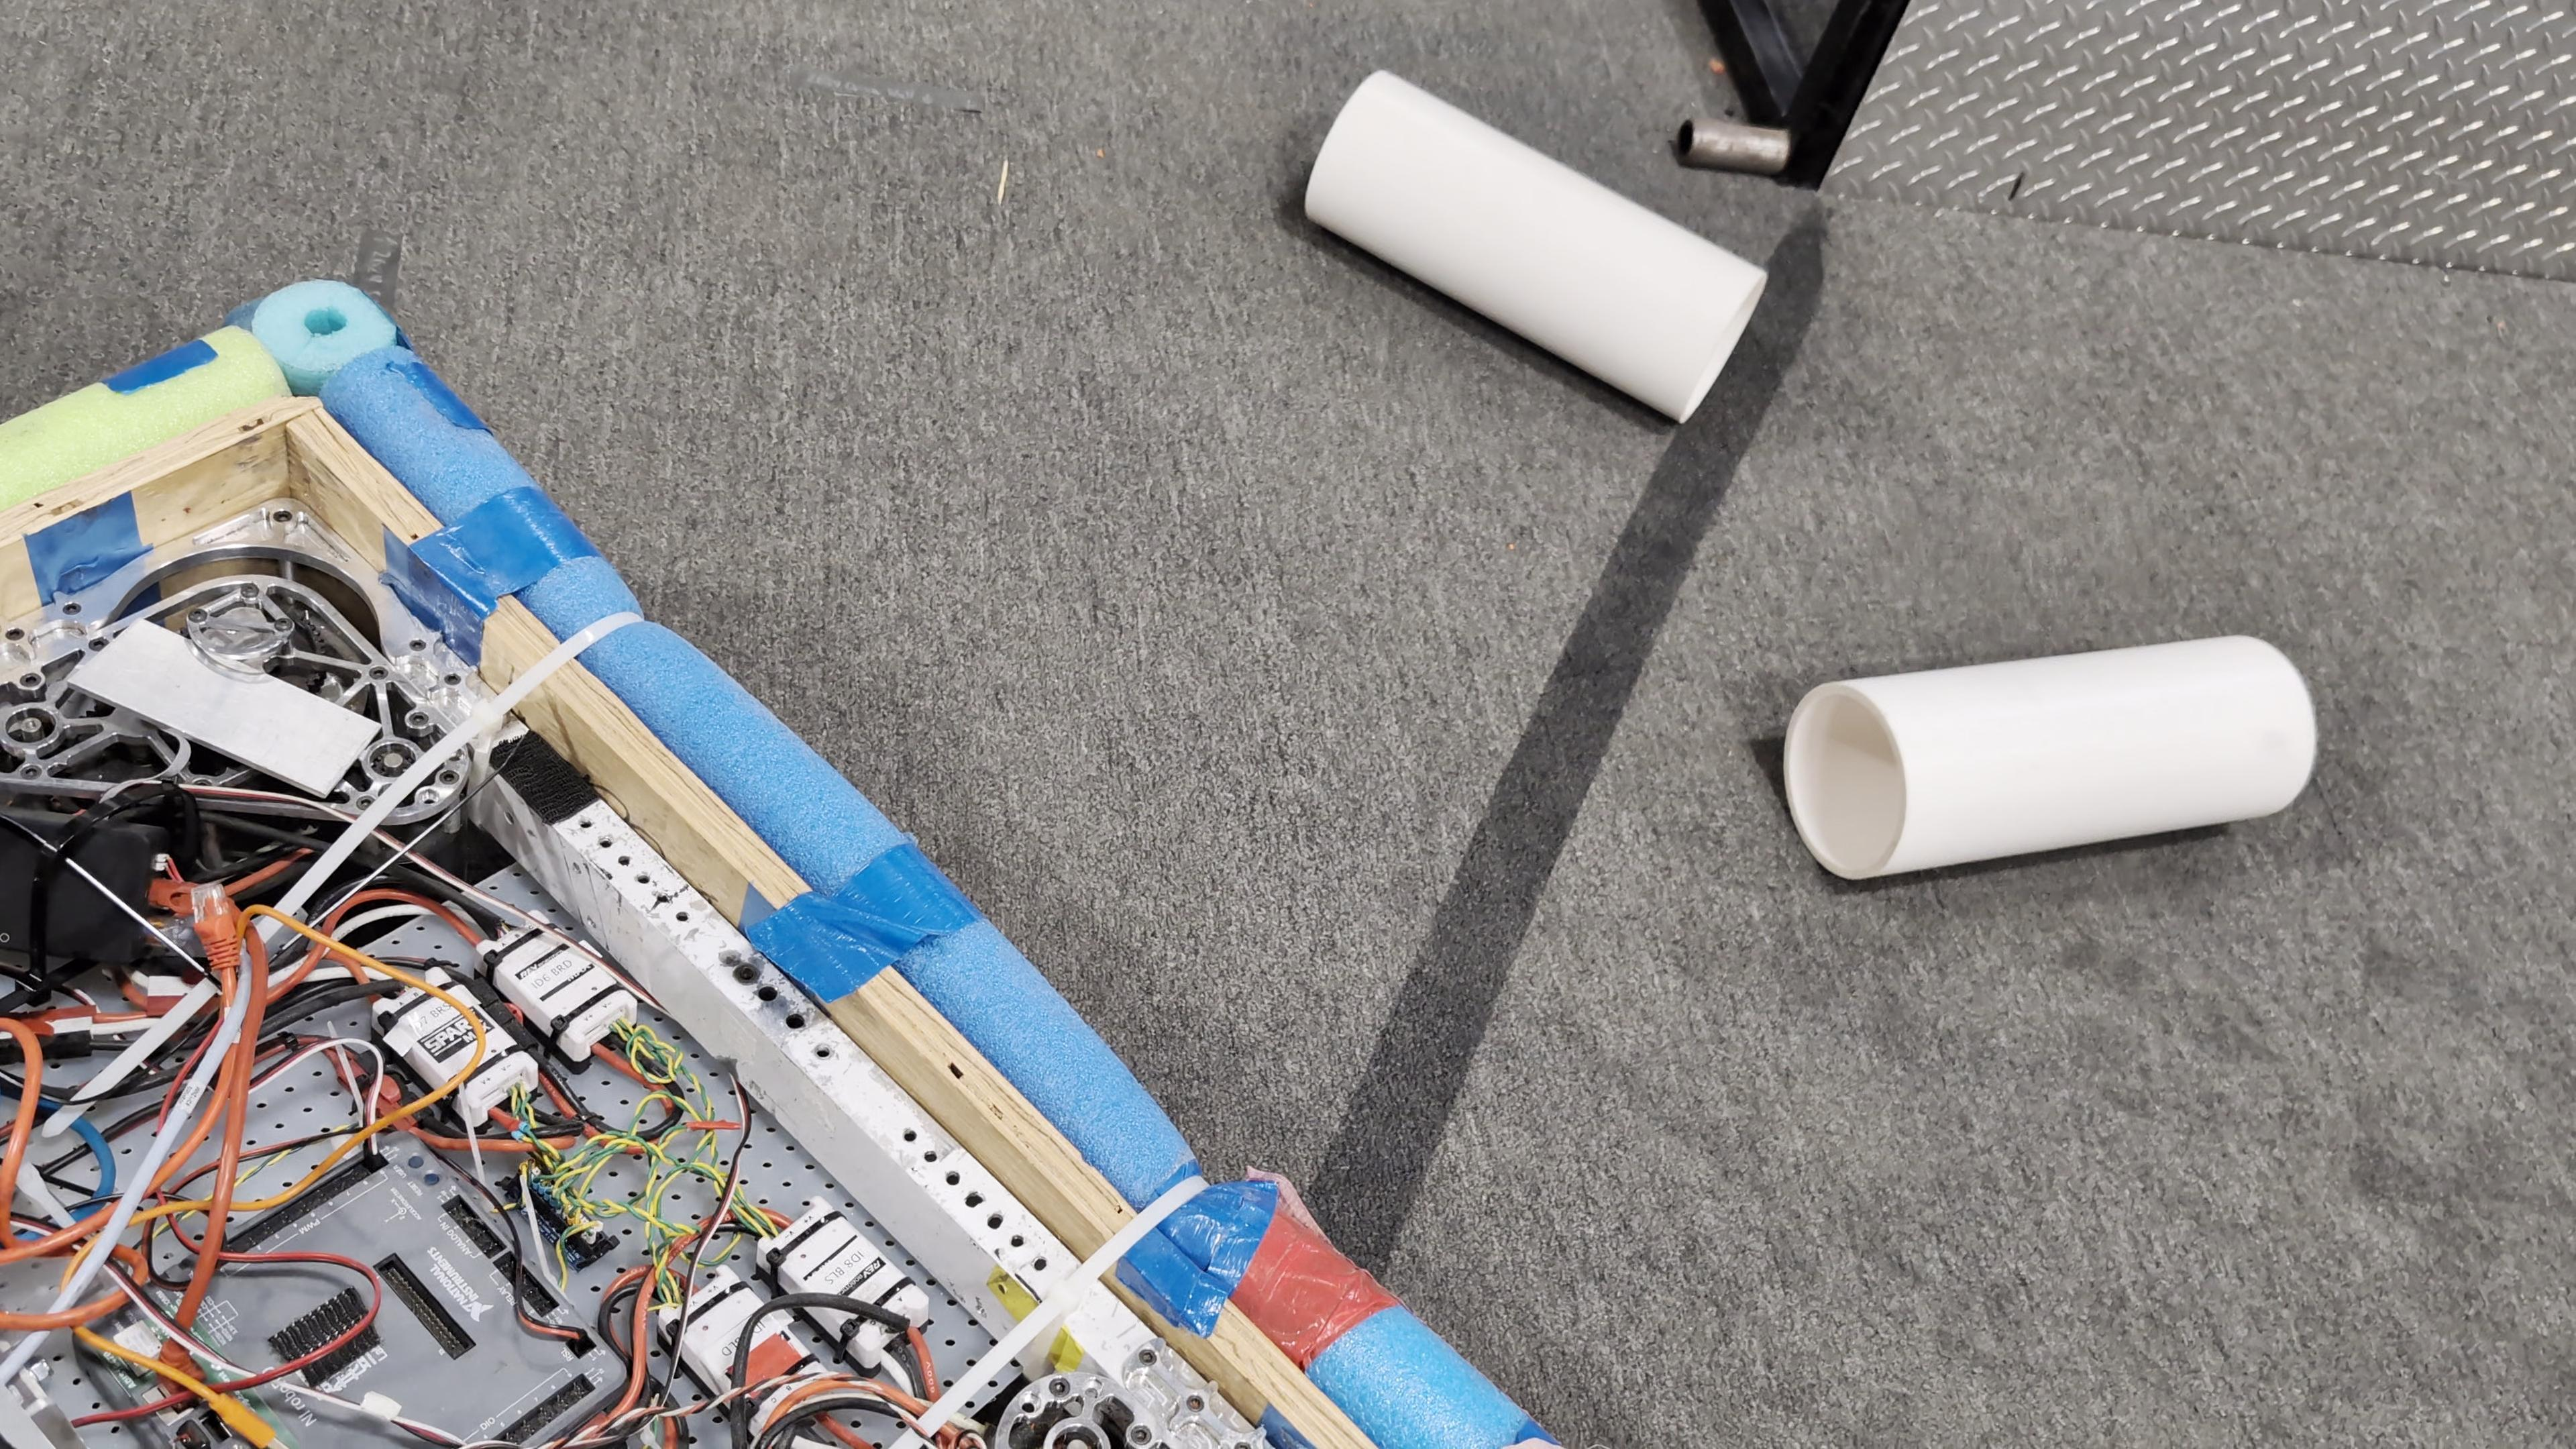coral: (1300, 64, 1773, 426), (1780, 630, 2319, 881)
